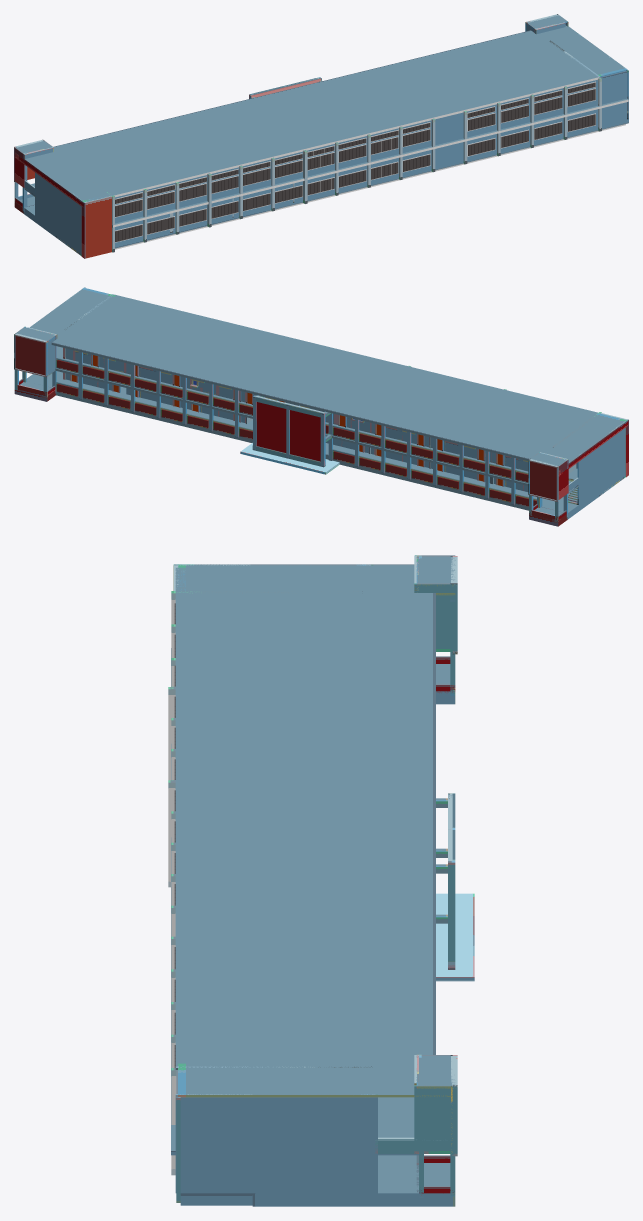
File: CST.glb
3 renders of one model, top to bottom at view 1: azimuth 30°, elevation 25°; view 2: azimuth 150°, elevation 25°; view 3: azimuth 270°, elevation 25°, orthographic. The views are drawn at different scales.
Parts seen in each view (by area): view 1: cube.309; view 2: cube.309; view 3: cube.309.
Boxes of the visible parts, x1,y1,x2,y2 form: cube.309: (14,14,628,258); cube.309: (14,287,628,526); cube.309: (168,555,474,1206).
Bounding box in the file's own units: 32.64 × 3.44 × 7.94.
Materials: 5 (5 with a texture image).
